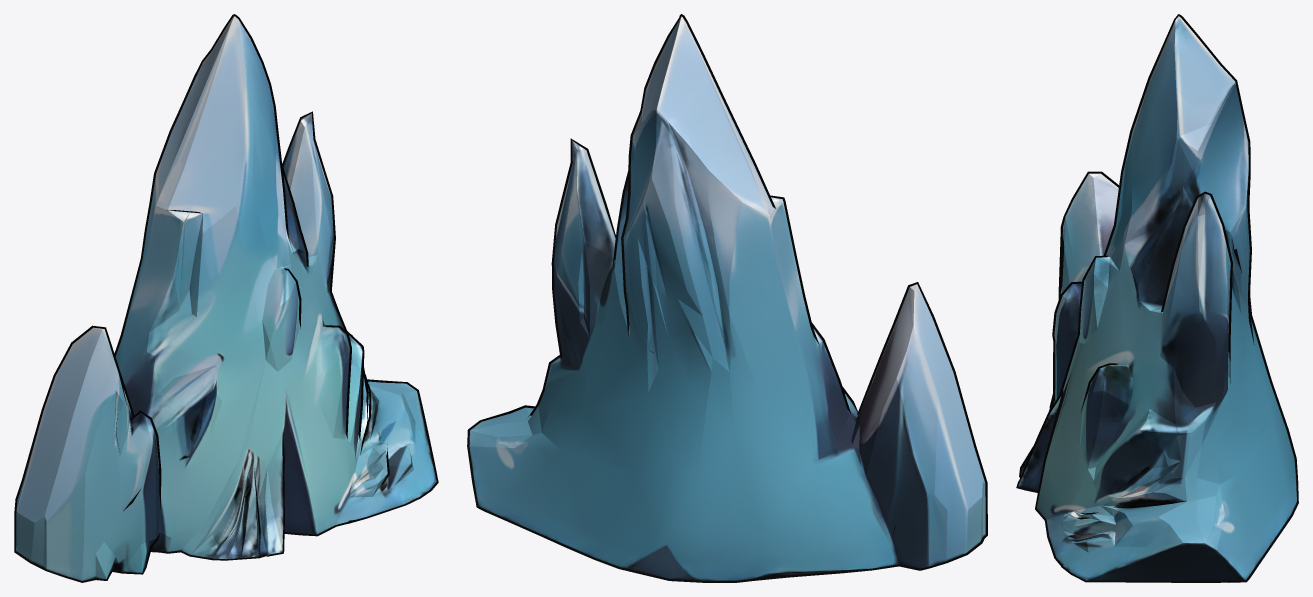
File: IceShard1.fbx
The picture shows the model from 3 angles, left to right: view 1: azimuth 30°, elevation 25°; view 2: azimuth 150°, elevation 25°; view 3: azimuth 270°, elevation 25°; orthographic projection. The views are drawn at different scales.
Parts seen in each view (by area): view 1: model; view 2: model; view 3: model.
Part boxes in pixels (x1,y1,x2,y2): model: [14, 14, 438, 582]; model: [467, 14, 987, 582]; model: [1016, 14, 1298, 582].
Bounding box in the file's own units: 67.6 × 71.39 × 37.34.
